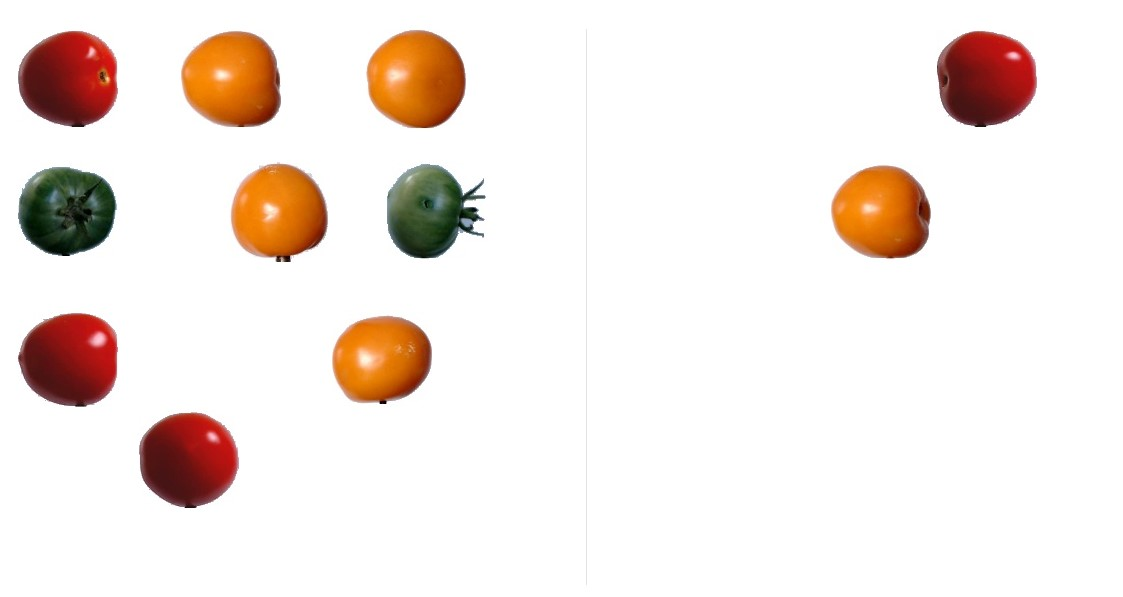green: (15, 164, 125, 253), (385, 165, 484, 256)
half: (363, 29, 477, 135), (180, 27, 292, 130), (330, 309, 437, 408), (233, 156, 328, 266), (834, 163, 935, 255)
red: (940, 28, 1042, 134), (16, 313, 127, 406), (135, 412, 239, 508), (18, 30, 119, 127)
